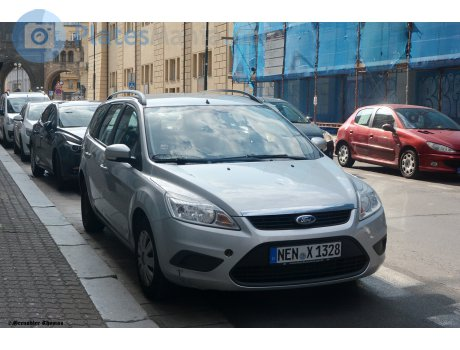License Plates: (277, 247, 340, 255)
